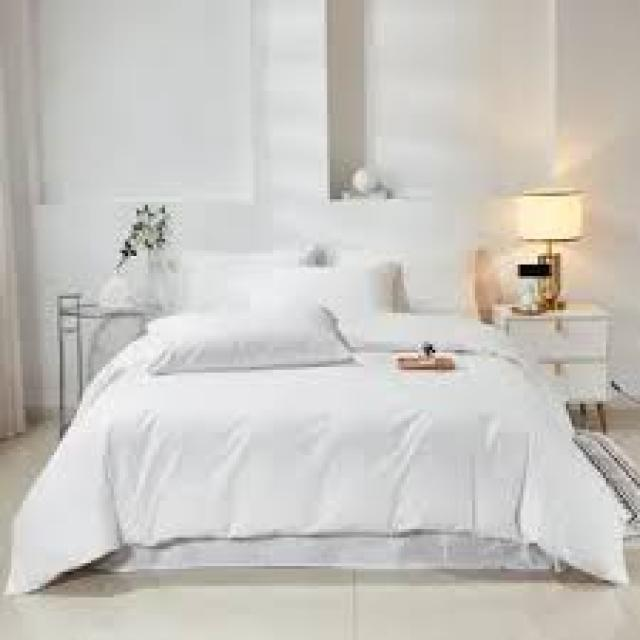bed: (6, 158, 622, 640)
